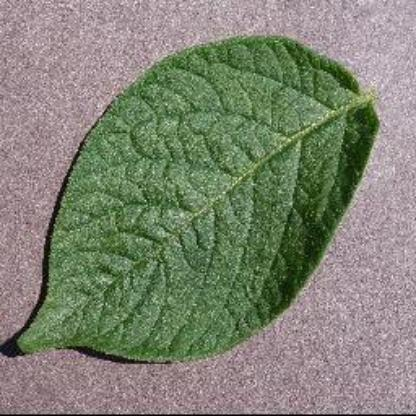Healthy-plant: (3, 32, 392, 374)
